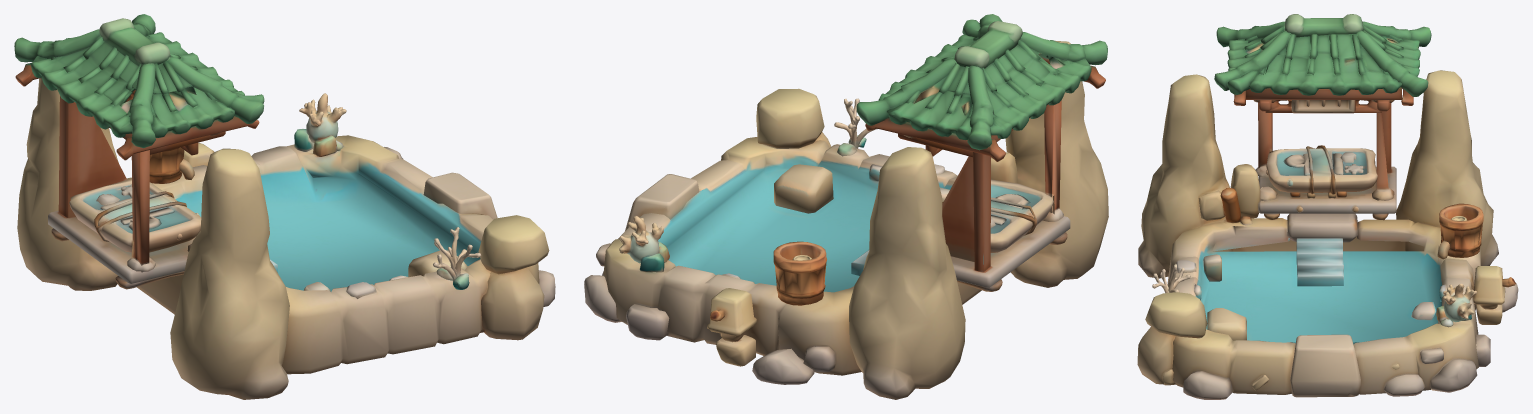
The model's file is onsen.glb.
The picture shows the model from 3 angles, left to right: view 1: azimuth 30°, elevation 25°; view 2: azimuth 150°, elevation 25°; view 3: azimuth 270°, elevation 25°; orthographic projection. The views are drawn at different scales.
Parts seen in each view (by area): view 1: tripo_node_8e15e792-6a20-4af9-8a5e-4cc0f2609b86; view 2: tripo_node_8e15e792-6a20-4af9-8a5e-4cc0f2609b86; view 3: tripo_node_8e15e792-6a20-4af9-8a5e-4cc0f2609b86.
Boxes of the visible parts, <box> form: tripo_node_8e15e792-6a20-4af9-8a5e-4cc0f2609b86: <box>14,14,555,399</box>; tripo_node_8e15e792-6a20-4af9-8a5e-4cc0f2609b86: <box>584,14,1108,399</box>; tripo_node_8e15e792-6a20-4af9-8a5e-4cc0f2609b86: <box>1137,14,1518,399</box>.
Bounding box in the file's own units: 0.998 × 0.6777 × 0.959.
Materials: 1 (1 with a texture image).
